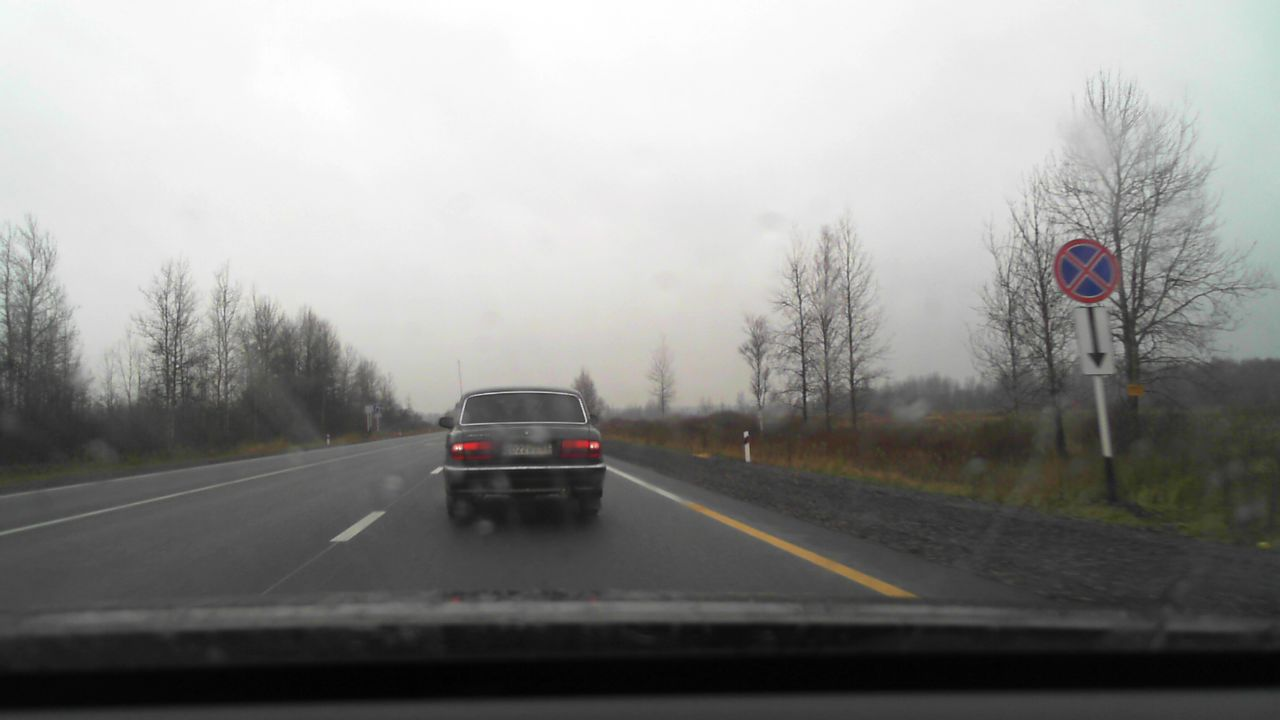No Parking: (1053, 238, 1120, 304)
